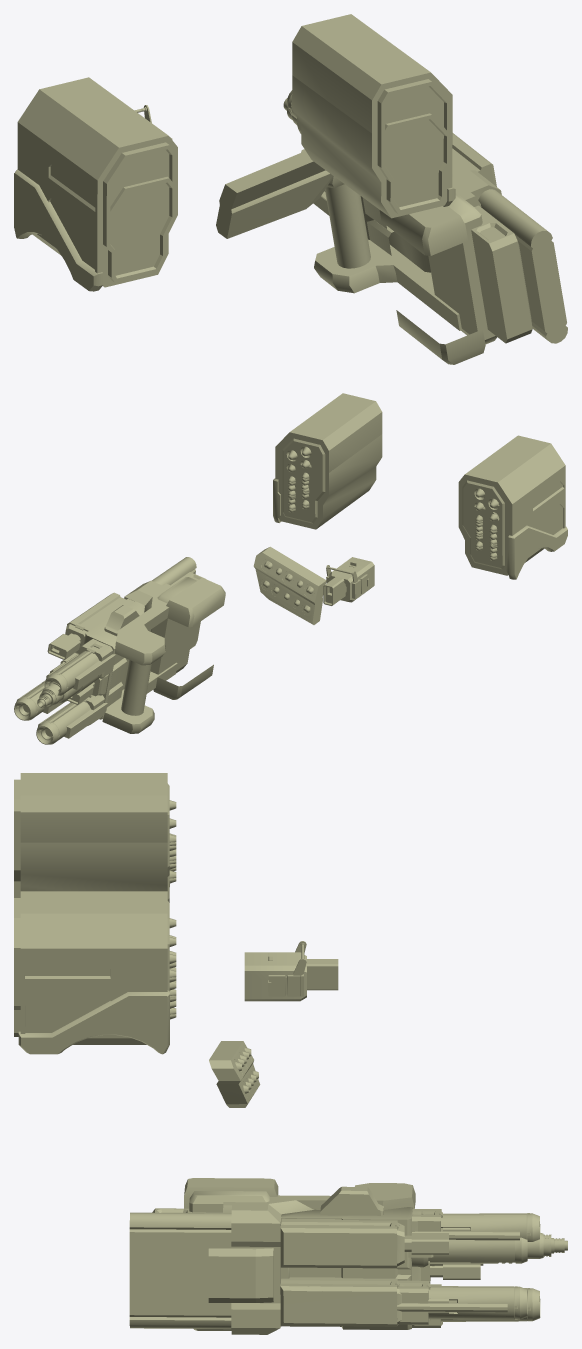
The model's file is WolverineWeapons.glb.
3 views of the same model, one above another, from view 1: azimuth 30°, elevation 25°; view 2: azimuth 150°, elevation 25°; view 3: azimuth 270°, elevation 25° (orthographic). The views are drawn at different scales.
Visible parts, largest first — view 1: Torso_Left_MH1_Missile10, Torso_Right_MH1_Missile10, Forearm_Right_EH1_PPC, Forearm_Right_EH1_Flamer, Torso_Right_MH1_Missile2, Torso_Right_MH1_Missile6, Torso_Left_MH1_Missile2, Torso_Right_MH2_Missile2, Forearm_Right_EH1_Laser, Forearm_Right_BH1_MG, Torso_Left_MH1_Missile5, Torso_Left_MH1_Missile6 (+6 smaller); view 2: Torso_Left_MH1_Missile10, Forearm_Right_EH1_Laser, Torso_Right_MH1_Missile10, Torso_Right_MH1_Missile2, Forearm_Right_EH1_PPC, Forearm_Right_BH1_AC5, Torso_Left_MH1_Missile4, Forearm_Right_EH2_PPC, Head_EH1_Laser, Torso_Left_MH1_Missile5, Forearm_Right_EH5_Laser, Torso_Right_MH2_Missile5 (+12 smaller); view 3: Forearm_Right_BH1_MG, Torso_Right_MH1_Missile10, Torso_Left_MH1_Missile10, Torso_Right_MH1_Missile6, Torso_Left_MH1_Missile2, Forearm_Right_EH4_PPC, Forearm_Right_EH5_Laser, Forearm_Right_EH4_Laser, Forearm_Right_EH1_Laser, Forearm_Right_EH1_PPC, Head_EH1_Laser, Forearm_Right_BH1_AC10 (+6 smaller).
Part boxes in pixels (x1,y1,x2,y2): Torso_Left_MH1_Missile10: (14, 77, 177, 291); Torso_Right_MH1_Missile10: (292, 14, 453, 218); Forearm_Right_EH1_PPC: (287, 90, 567, 364); Forearm_Right_EH1_Flamer: (314, 177, 541, 364); Torso_Right_MH1_Missile2: (292, 75, 448, 217); Torso_Right_MH1_Missile6: (372, 113, 455, 217); Torso_Left_MH1_Missile2: (25, 177, 177, 286); Torso_Right_MH2_Missile2: (221, 153, 333, 238); Forearm_Right_EH1_Laser: (301, 149, 537, 302); Forearm_Right_BH1_MG: (315, 170, 566, 337); Torso_Left_MH1_Missile5: (14, 155, 173, 291); Torso_Left_MH1_Missile6: (14, 172, 177, 290); Torso_Left_MH1_Missile10: (458, 435, 566, 578); Forearm_Right_EH1_Laser: (86, 558, 225, 733); Torso_Right_MH1_Missile10: (274, 393, 382, 517); Torso_Right_MH1_Missile2: (274, 442, 382, 529); Forearm_Right_EH1_PPC: (44, 561, 225, 733); Forearm_Right_BH1_AC5: (39, 557, 221, 733); Torso_Left_MH1_Missile4: (458, 500, 567, 579); Forearm_Right_EH2_PPC: (36, 695, 107, 744); Head_EH1_Laser: (326, 557, 374, 602); Torso_Left_MH1_Missile5: (475, 487, 565, 579); Forearm_Right_EH5_Laser: (65, 592, 134, 653); Torso_Right_MH2_Missile5: (253, 552, 318, 618); Forearm_Right_BH1_MG: (129, 1182, 414, 1334); Torso_Right_MH1_Missile10: (14, 891, 176, 1053); Torso_Left_MH1_Missile10: (14, 773, 176, 900); Torso_Right_MH1_Missile6: (14, 951, 176, 1054); Torso_Left_MH1_Missile2: (14, 842, 176, 899); Forearm_Right_EH4_PPC: (280, 1277, 527, 1326); Forearm_Right_EH5_Laser: (280, 1218, 404, 1268); Forearm_Right_EH4_Laser: (280, 1279, 404, 1326); Forearm_Right_EH1_Laser: (189, 1178, 425, 1248); Forearm_Right_EH1_PPC: (412, 1209, 540, 1241); Head_EH1_Laser: (244, 941, 306, 1001); Forearm_Right_BH1_AC10: (130, 1232, 543, 1328).
Size of the model in its own units: 1.34 by 0.8894 by 1.25.
